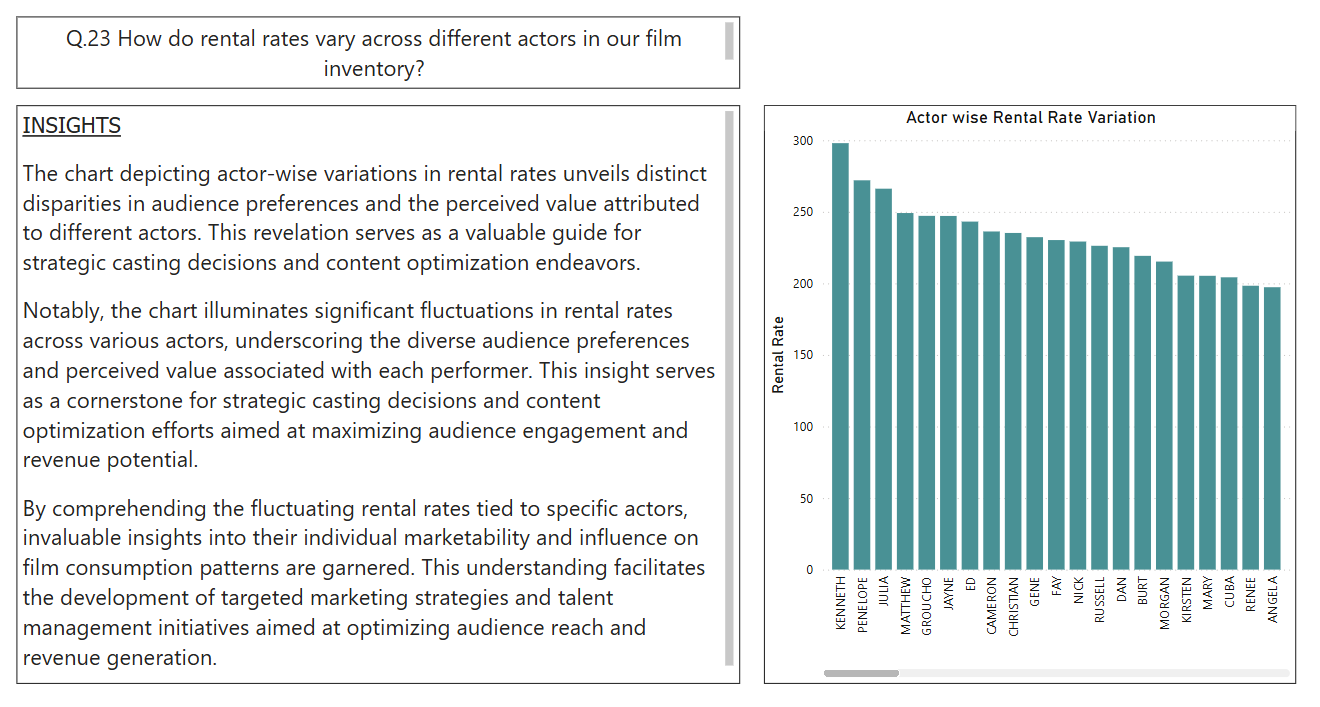

Layout of this report page (visuals, bound fields, positions):
{"tool":"powerbi","page":{"name":"Q23","canvas":[1280,720],"ordinal":28},"visuals":[{"type":"textbox","box":[21.7,36.2,698.5,70],"z":0},{"type":"textbox","box":[21.7,121.9,698.5,558.6],"z":1000},{"type":"lineStackedColumnComboChart","title":"Actor wise Rental Rate Variation ","fields":{"Category":["actor.first_name"],"Y":["Sum(film.rental_rate)"]},"box":[743.2,121.9,513.9,558.6],"z":2000}]}

Visuals, with their boxes on the page's 1280x720 design canvas (x1, y1, x2, y2). These are canvas units, not pixel positions in the 1320x707 screenshot, which may show the page scaled, cropped or inside an application window:
textbox: [22, 36, 720, 106]
textbox: [22, 122, 720, 680]
"Actor wise Rental Rate Variation " lineStackedColumnComboChart: [743, 122, 1257, 680]
